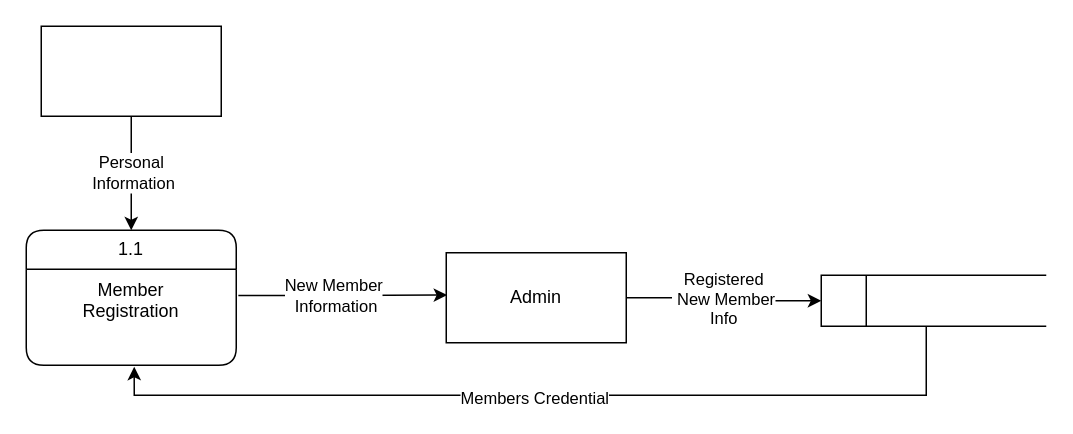
Some shapes in this 1073 by 434 pixel diagram are drawn without their labels. Here are the shapes that lost their labels. From the top down, the box of each, then its label:
(40, 25, 221, 116): Member
(820, 274, 1046, 326): Compile Member Records
